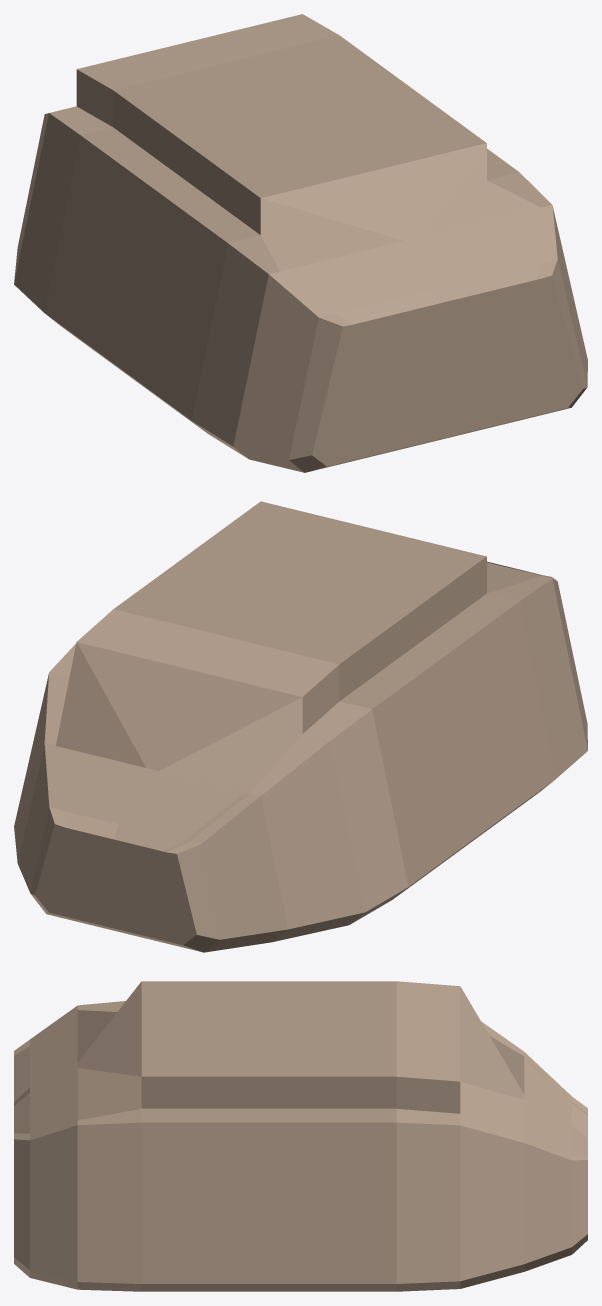
File: orrin_scout_a.glb
3 views of the same model, one above another, from view 1: azimuth 30°, elevation 25°; view 2: azimuth 150°, elevation 25°; view 3: azimuth 270°, elevation 25° (orthographic). The views are drawn at different scales.
Parts seen in each view (by area): view 1: orrin_scout_a; view 2: orrin_scout_a; view 3: orrin_scout_a.
Part boxes in pixels (left/top/right/bottom): orrin_scout_a: left=14, top=14, right=587, bottom=472; orrin_scout_a: left=14, top=501, right=587, bottom=952; orrin_scout_a: left=14, top=981, right=587, bottom=1291.
Size of the model in its own units: 2.6 by 1.52 by 4.1.
